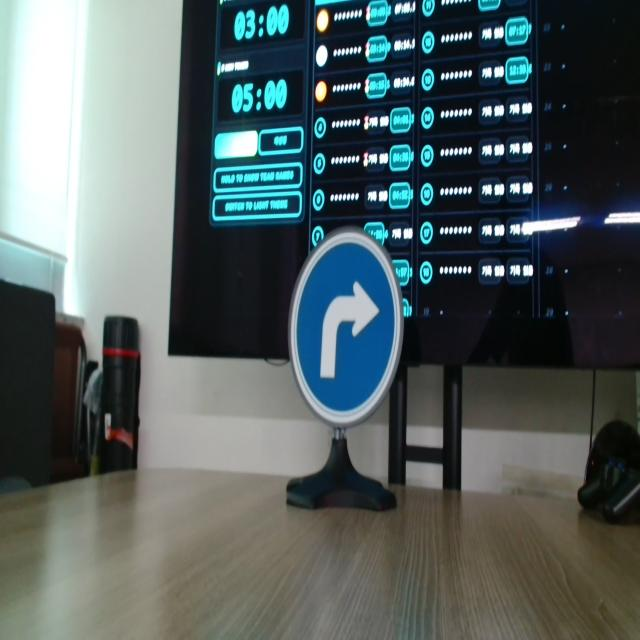right_dierection: (283, 211, 418, 439)
